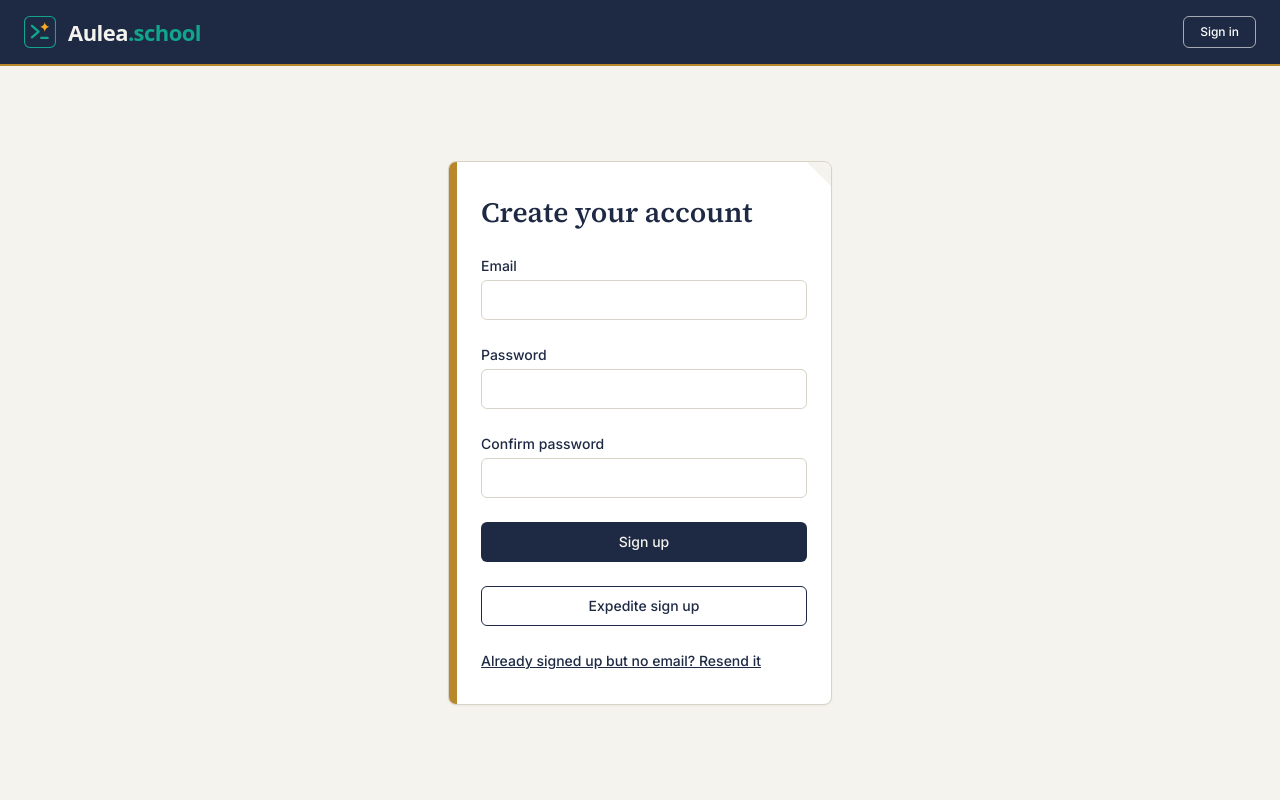
Test: SignUpPage (SIGNUP-CONFIRMATION-001) › replaces the form with "Account created" after a 201 on expedite sign up
Check: the button "Expedite sign up" is shown, box [481,586,807,626]
Type "a@b.it" into the field labelled "Email" at (644, 300), box [481,280,807,320]
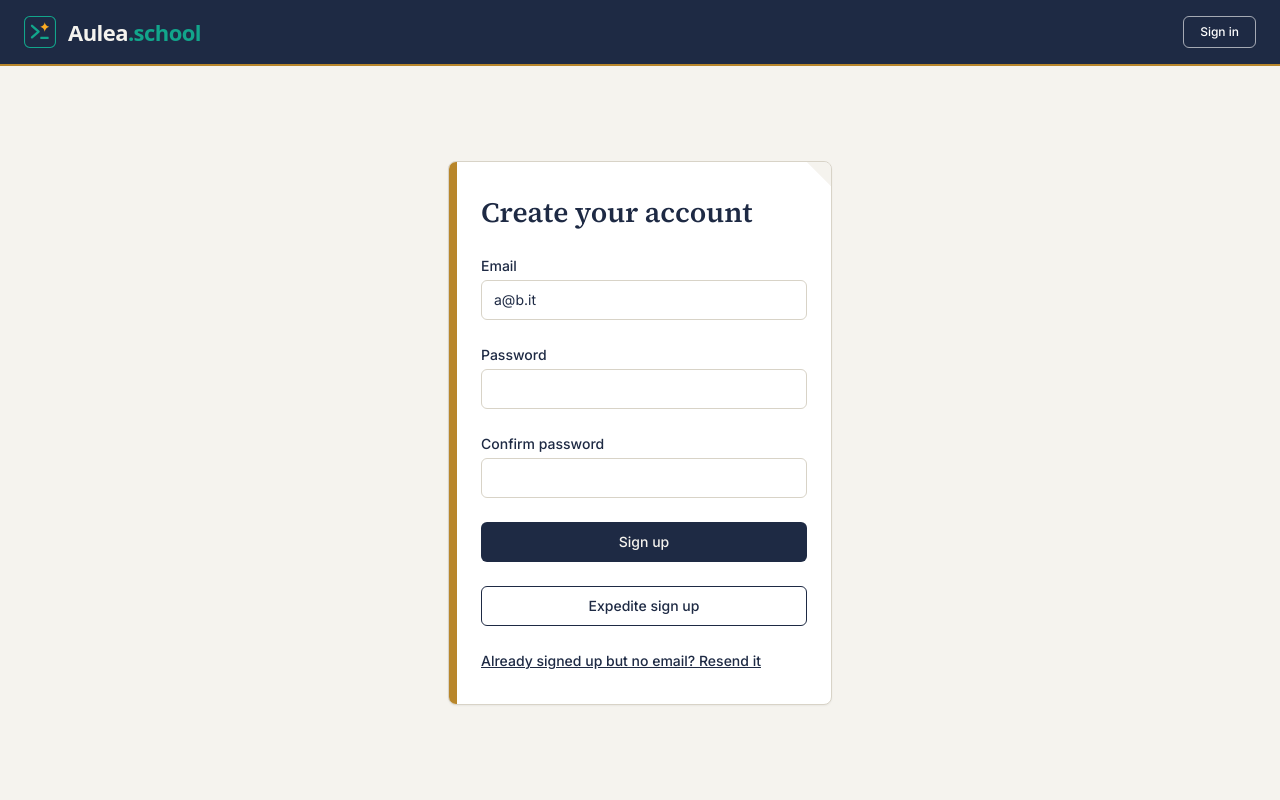
Type "longenough" into the password field labelled "Password" at (644, 389), box [481,369,807,409]
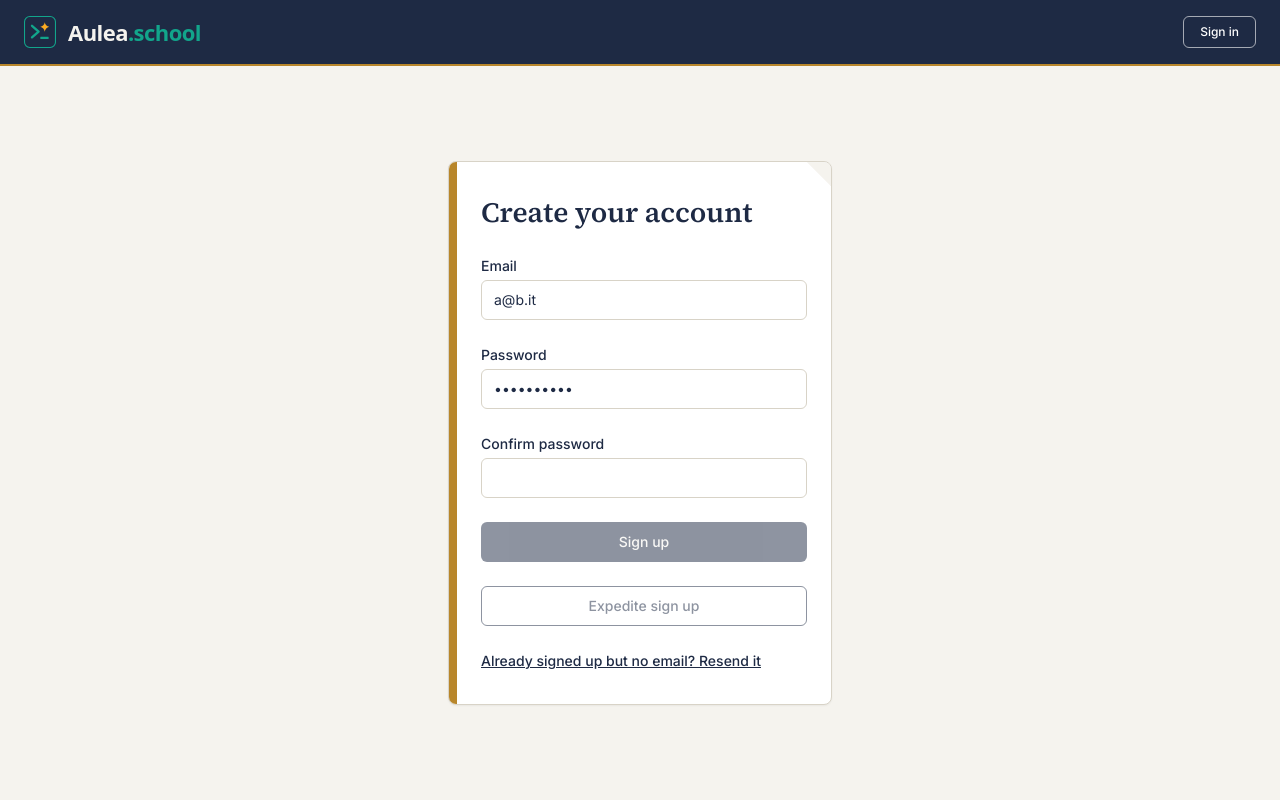
Type "longenough" into the password field labelled "Confirm password" at (644, 478), box [481,458,807,498]
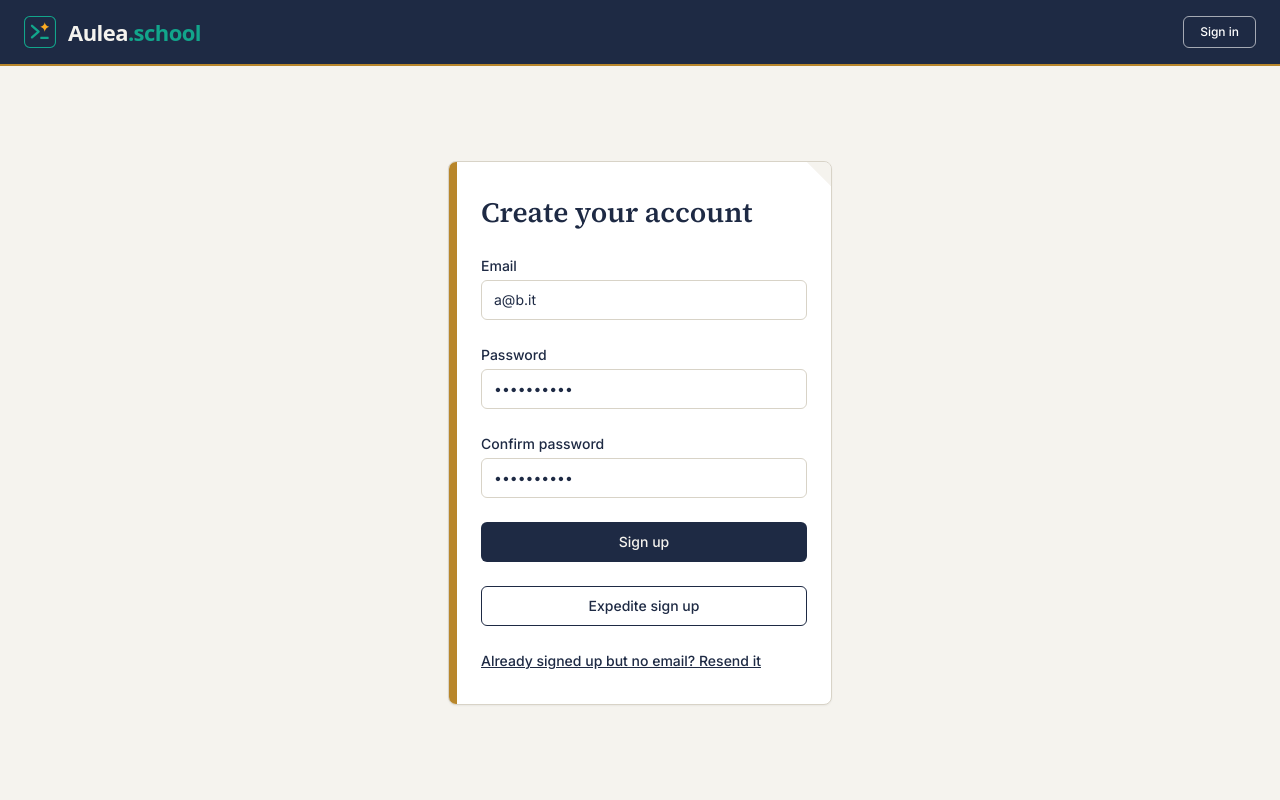
Click the button "Expedite sign up" at (644, 606), box [481,586,807,626]
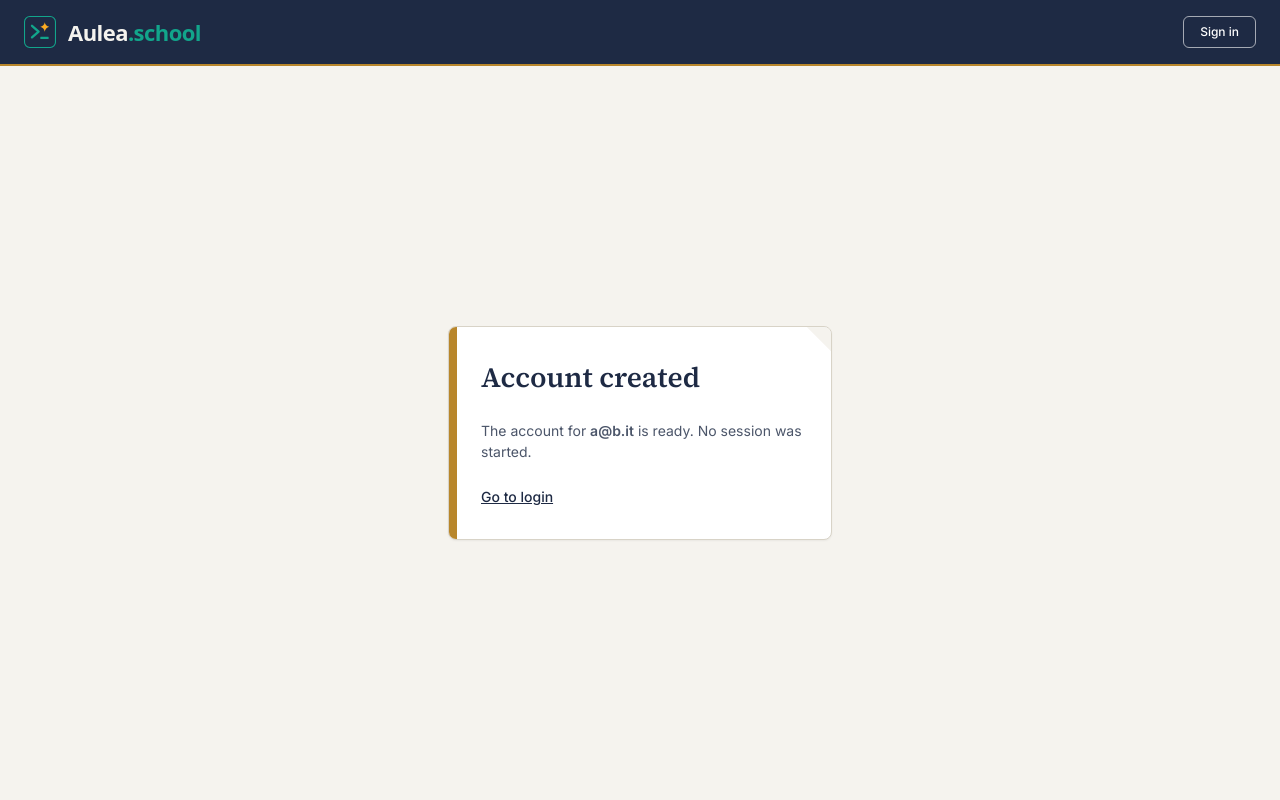
Check: the message shows "Account created", box [481,358,700,396]
Check: the label labelled "Email" is gone
Check: the label labelled "Password" is gone
